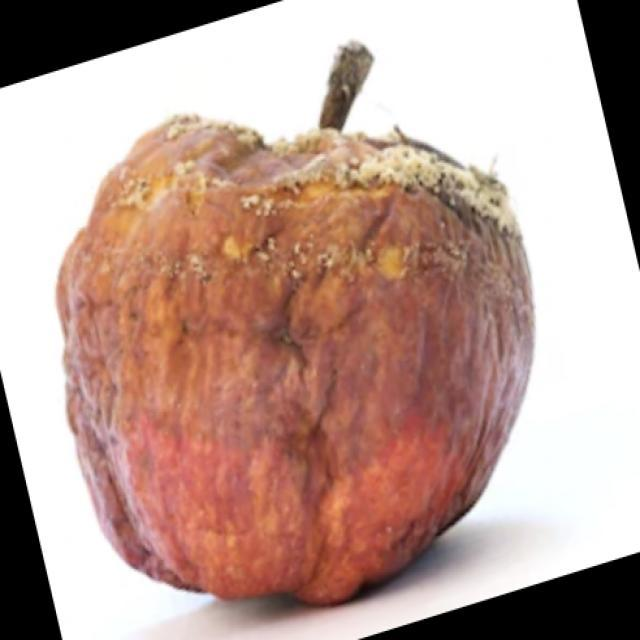Rotten: (45, 109, 523, 584)
